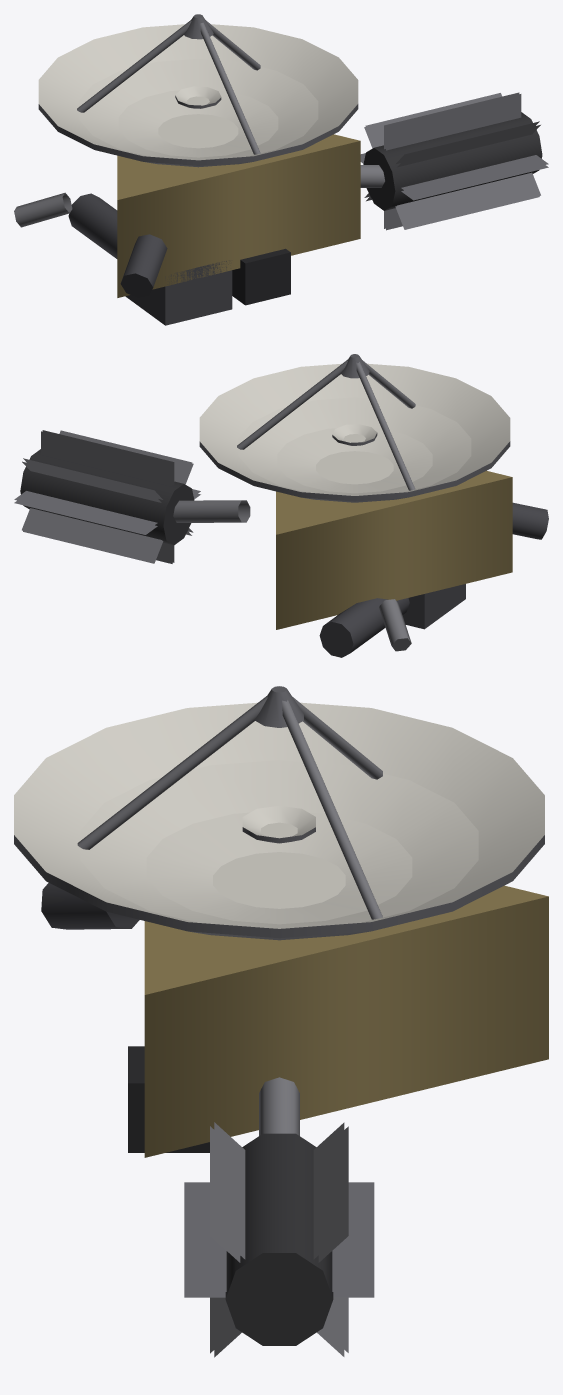
File: new-horizons.obj
3 views of the same model, one above another, from view 1: azimuth 30°, elevation 25°; view 2: azimuth 150°, elevation 25°; view 3: azimuth 270°, elevation 25° (orthographic). The views are drawn at different scales.
Parts seen in each view (by area): view 1: new-horizons; view 2: new-horizons; view 3: new-horizons.
Part boxes in pixels (x1,y1,x2,y2): new-horizons: (14,14,548,325); new-horizons: (14,354,548,657); new-horizons: (14,686,548,1357).
Bounding box in the file's own units: 3.5 × 1.87 × 2.08.
